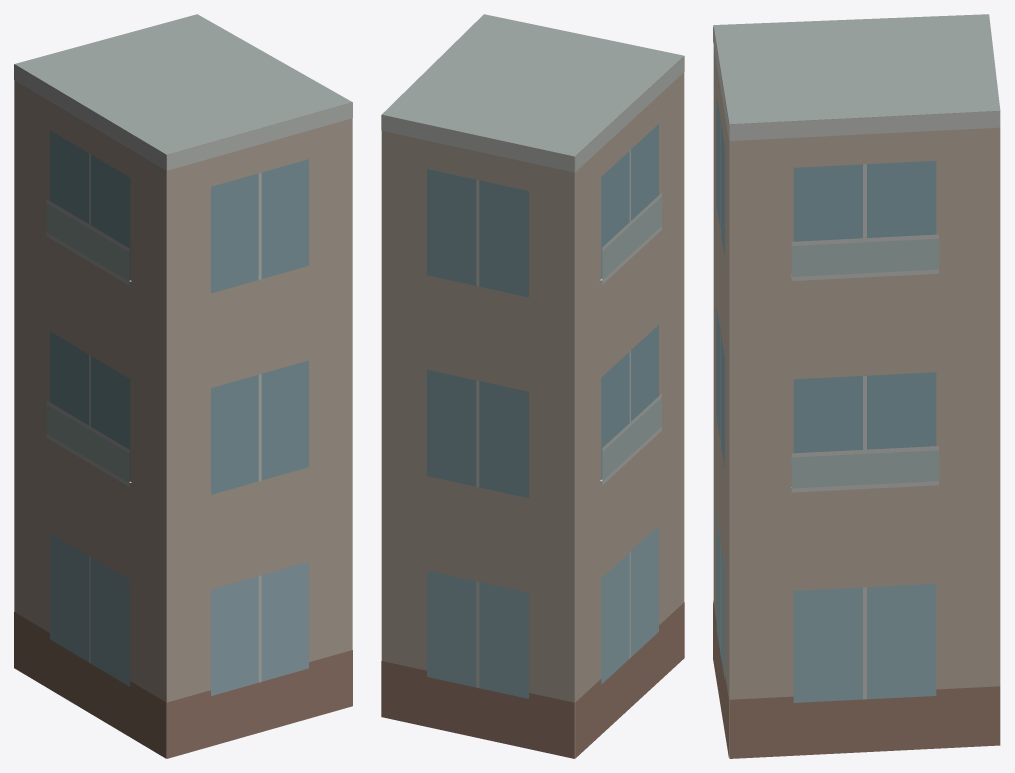
Rendered from survey-upis-32958379.glb.
The picture shows the model from 3 angles, left to right: view 1: azimuth 30°, elevation 25°; view 2: azimuth 150°, elevation 25°; view 3: azimuth 270°, elevation 25°; orthographic projection. The views are drawn at different scales.
Visible parts, largest first — view 1: survey-upis-32958379.tmp; view 2: survey-upis-32958379.tmp; view 3: survey-upis-32958379.tmp.
Part boxes in pixels (left/top/right/bottom): survey-upis-32958379.tmp: left=14, top=14, right=352, bottom=758; survey-upis-32958379.tmp: left=381, top=14, right=684, bottom=758; survey-upis-32958379.tmp: left=713, top=14, right=1000, bottom=758.
Size of the model in its own units: 3.41 by 9.15 by 3.76.
